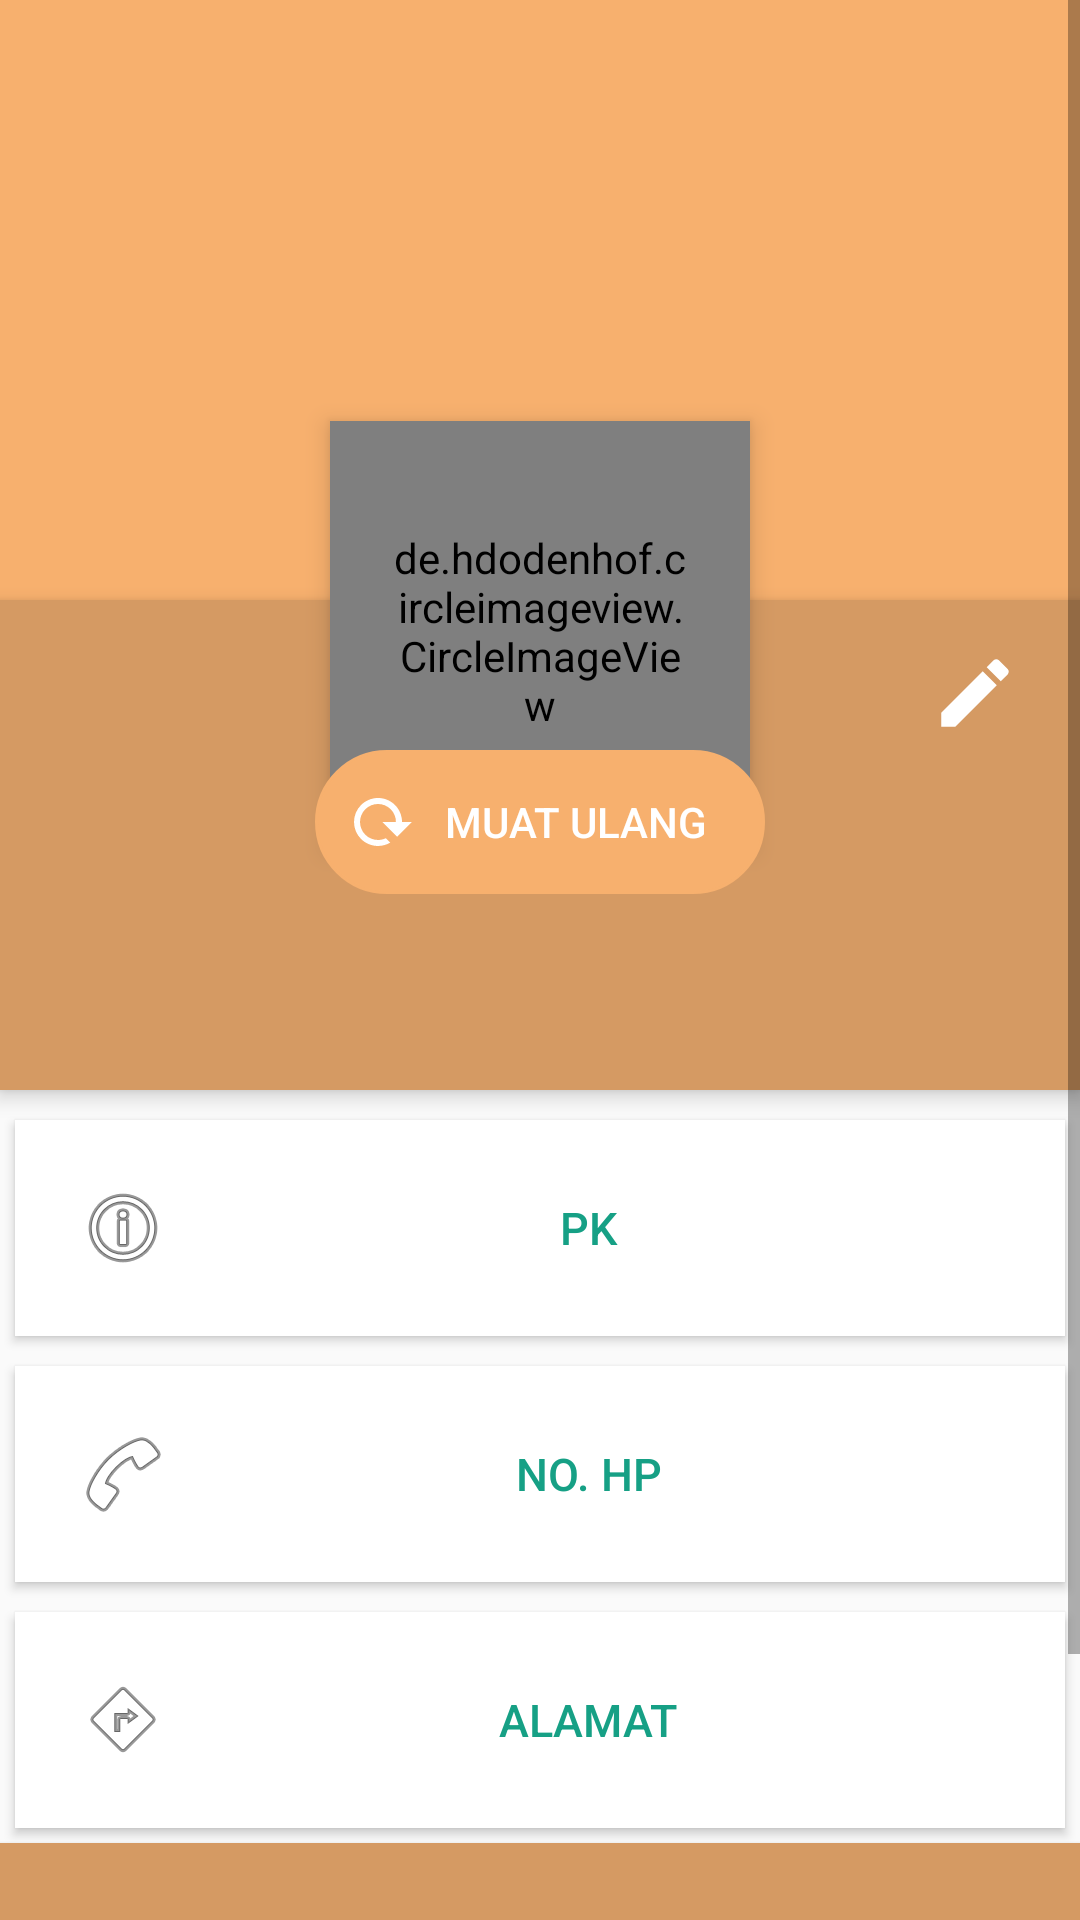

Named icons in this screenshot (1080w x 1920h) and their bounding boxes, BBox(x1, y1, x2, y2):
edit: BBox(941, 659, 1009, 727)
